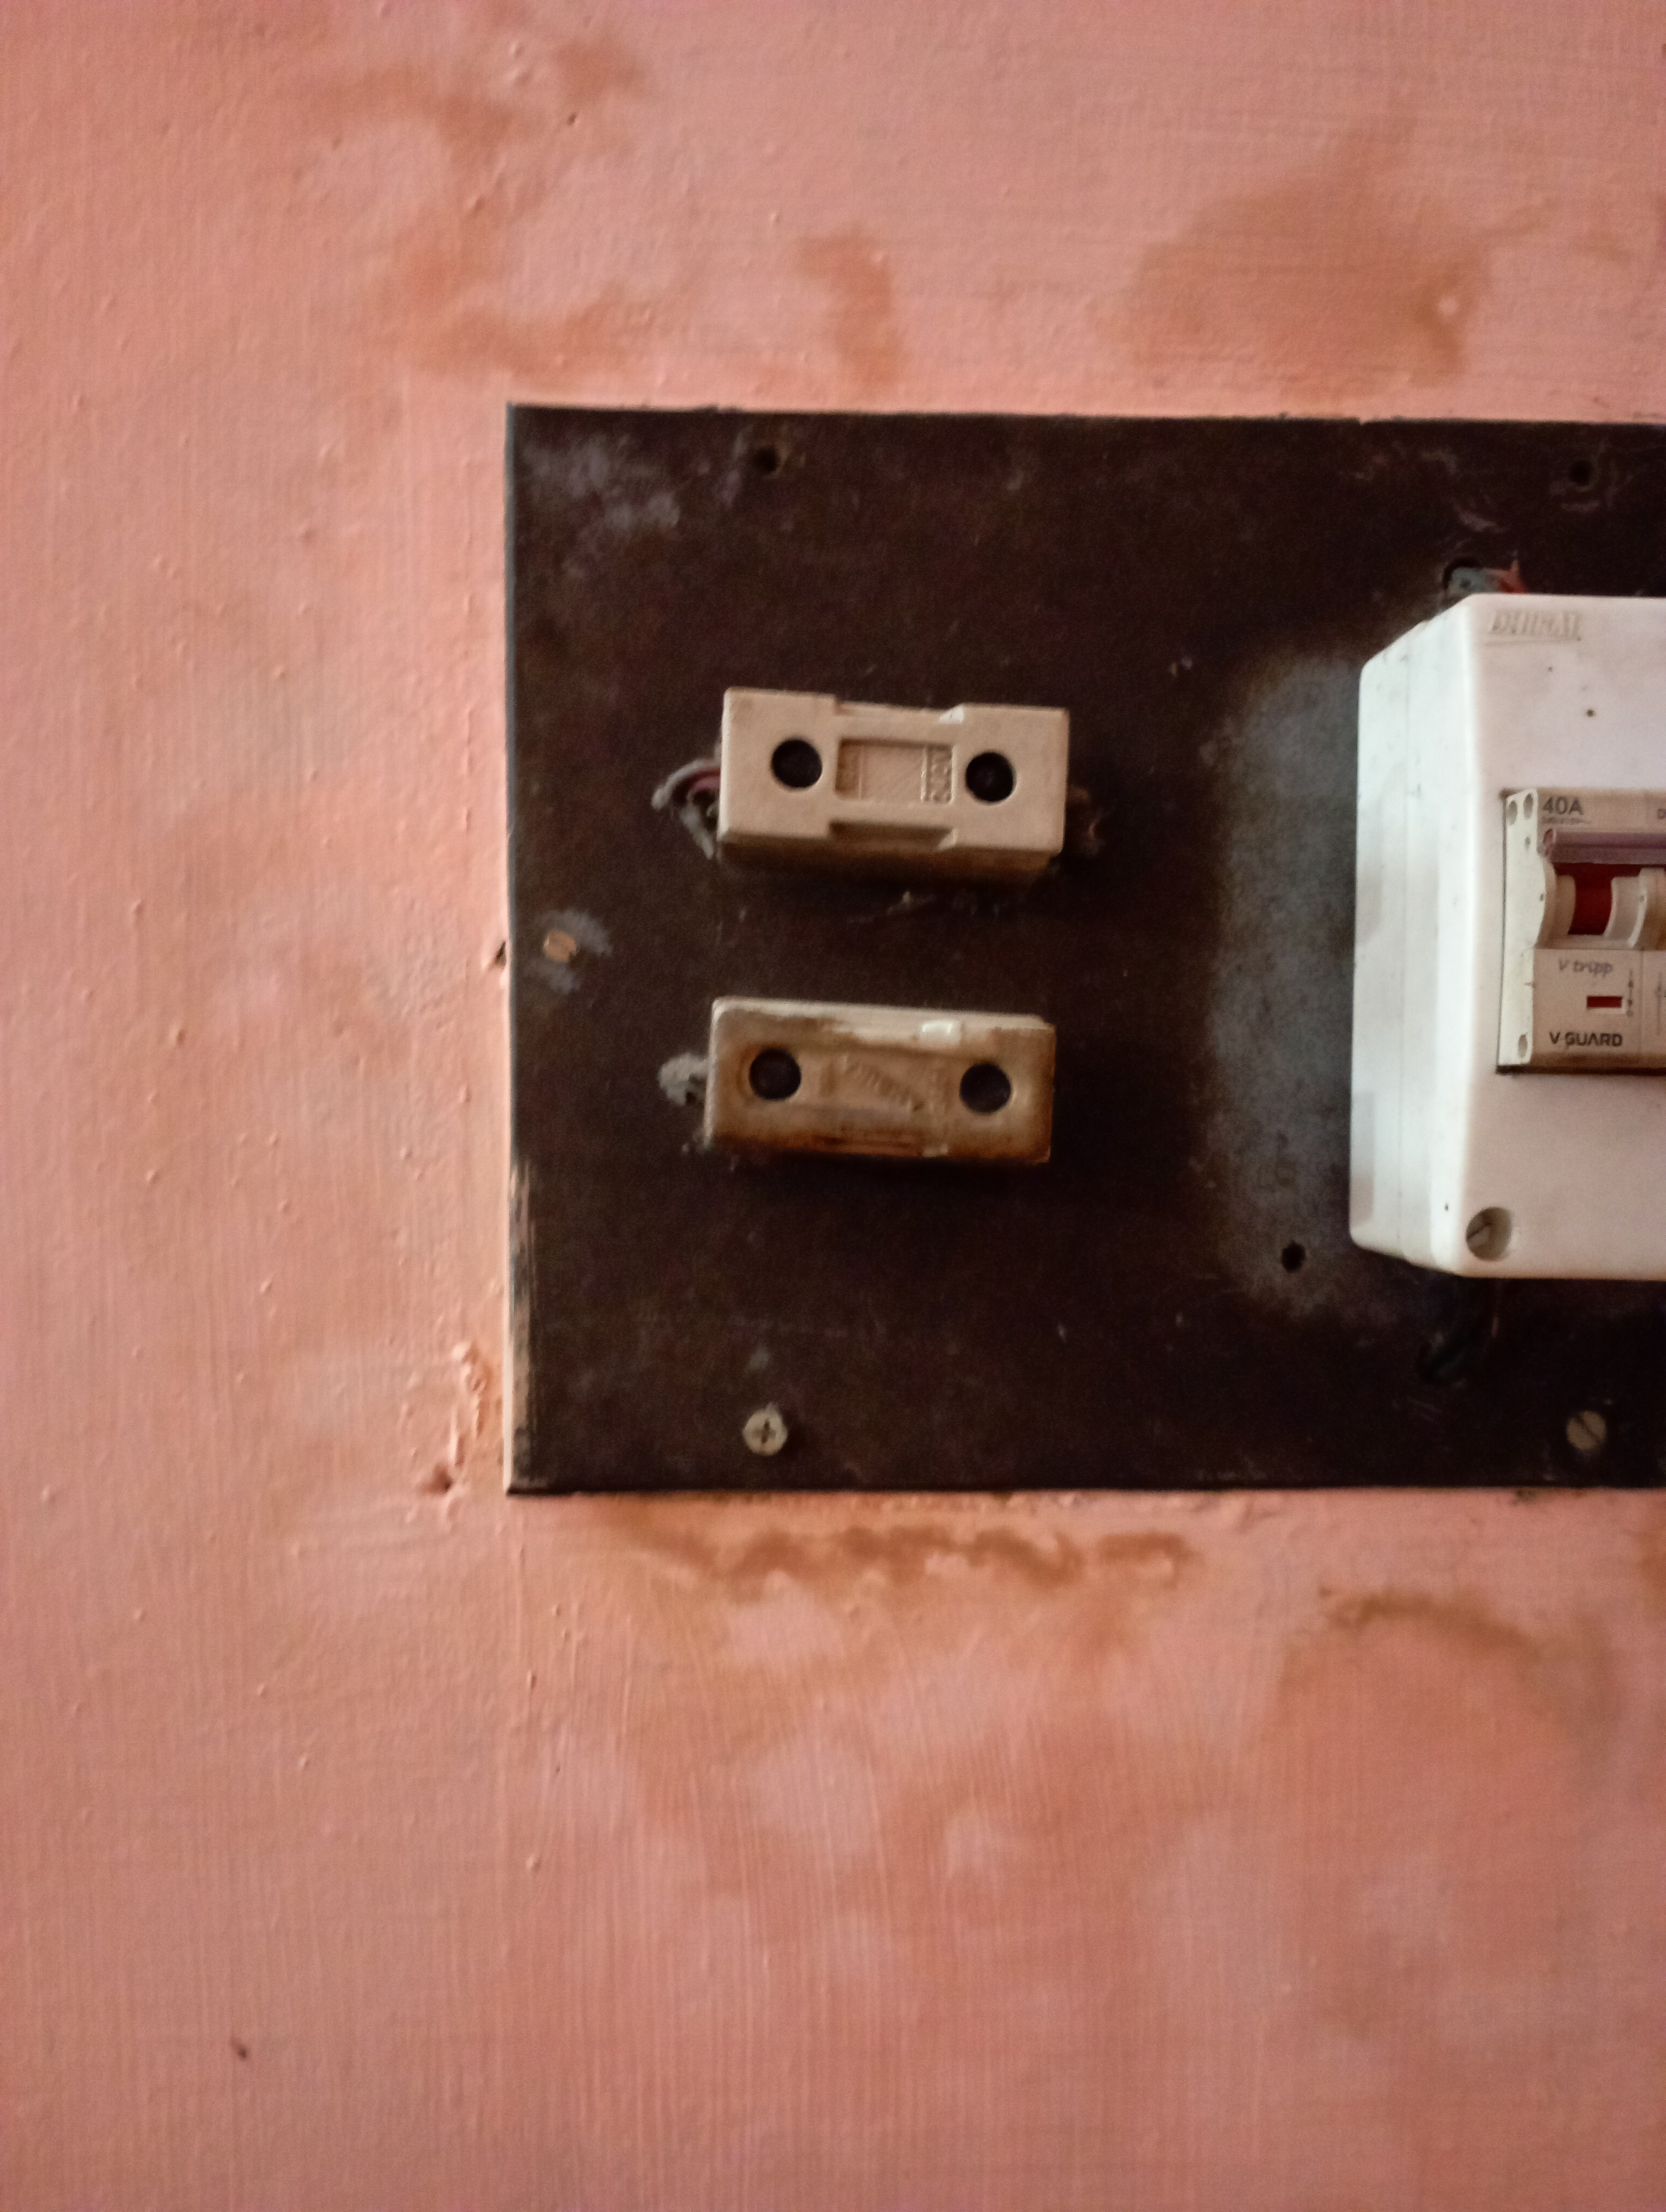ciruit_breaker: (1309, 568, 1666, 1388)
fuse: (670, 678, 1123, 890), (683, 974, 1080, 1203)
